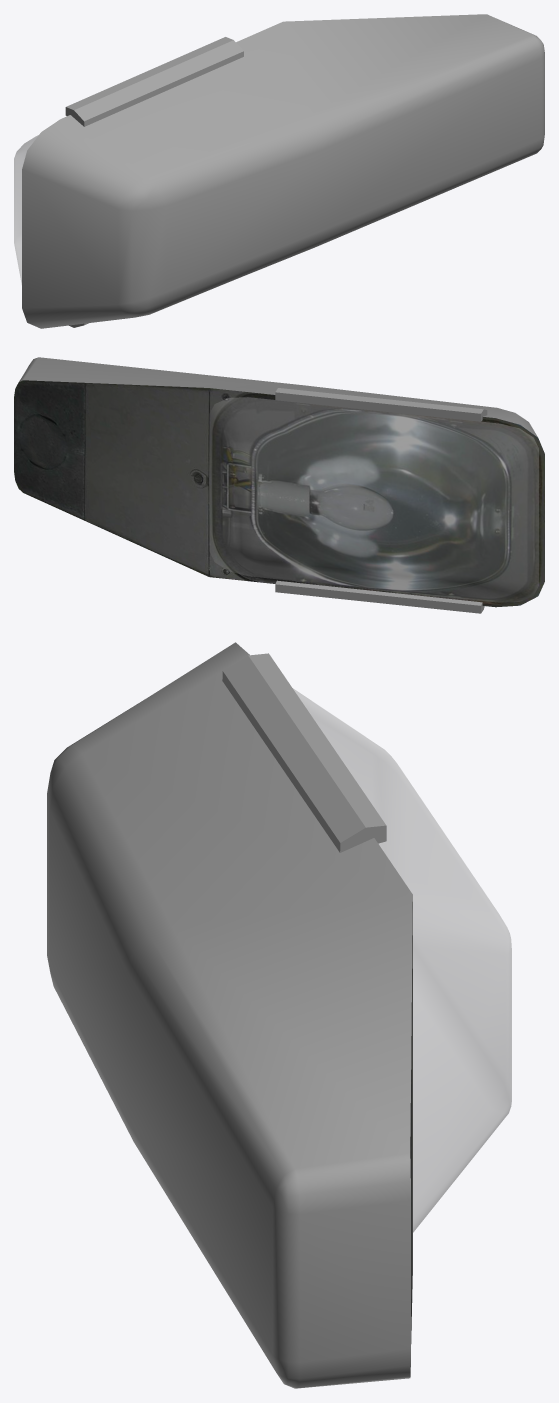
File: Koffer_150.obj
3 renders of one model, top to bottom at view 1: azimuth 30°, elevation 25°; view 2: azimuth 150°, elevation 25°; view 3: azimuth 270°, elevation 25°, orthographic. The views are drawn at different scales.
Visible parts, largest first — view 1: Cube_Cube.001, BezierCurve_Mesh, Glas_Cube.002; view 2: Cube_Cube.001, Glas_Cube.002, BezierCurve_Mesh; view 3: Cube_Cube.001, Glas_Cube.002, BezierCurve_Mesh.
Boxes of the visible parts, box(x1,y1,x2,y2) form: Cube_Cube.001: box(22, 14, 544, 328); BezierCurve_Mesh: box(65, 37, 243, 327); Glas_Cube.002: box(14, 135, 38, 284); Cube_Cube.001: box(14, 357, 544, 607); Glas_Cube.002: box(209, 397, 538, 602); BezierCurve_Mesh: box(275, 388, 487, 613); Cube_Cube.001: box(47, 642, 412, 1388); Glas_Cube.002: box(293, 688, 511, 1232); BezierCurve_Mesh: box(222, 653, 386, 852).
Bounding box in the file's own units: 0.8487 × 0.3261 × 0.3432.
